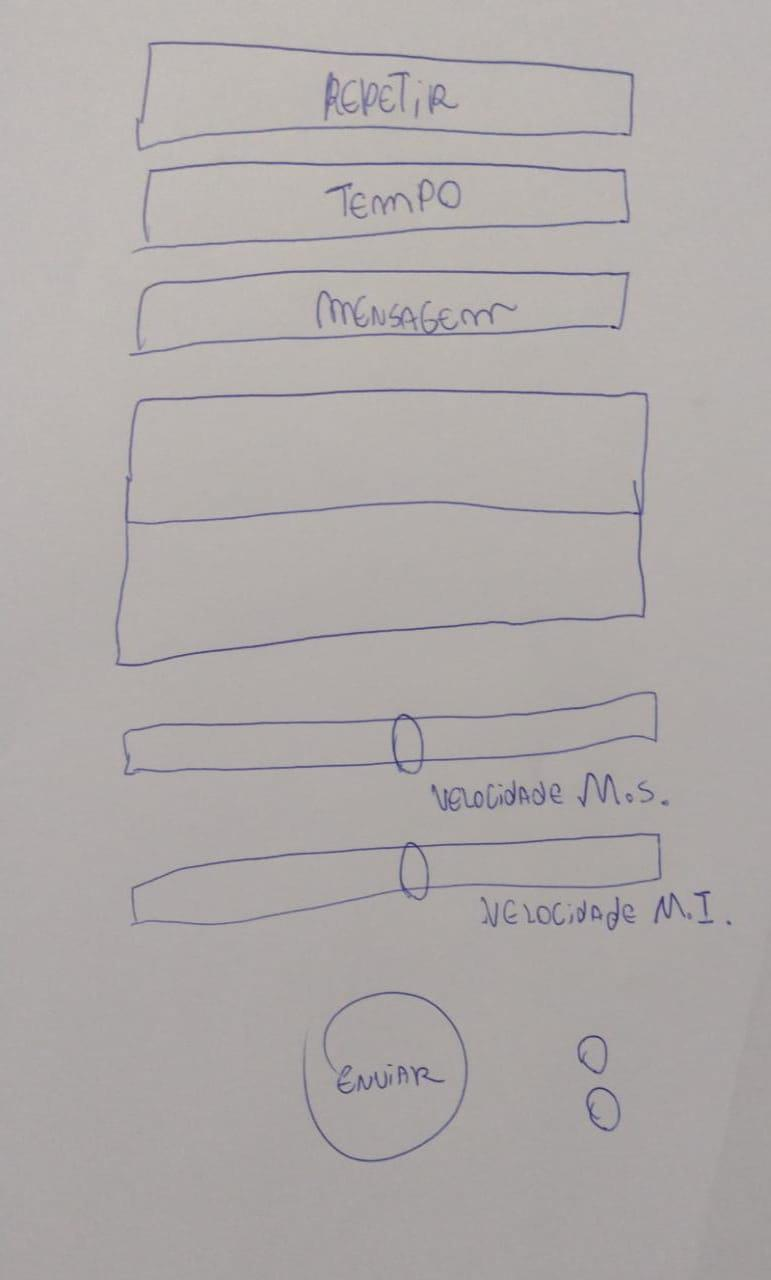Button: (136, 42, 634, 151), (131, 160, 629, 254), (130, 269, 628, 356), (302, 988, 468, 1162)
Label: (480, 891, 736, 929), (432, 773, 669, 812), (577, 1035, 625, 1132)
Screen: (0, 0, 770, 1279)
Slider: (130, 833, 662, 928), (120, 691, 658, 777)
TextBox: (113, 500, 646, 669), (124, 388, 649, 523)
